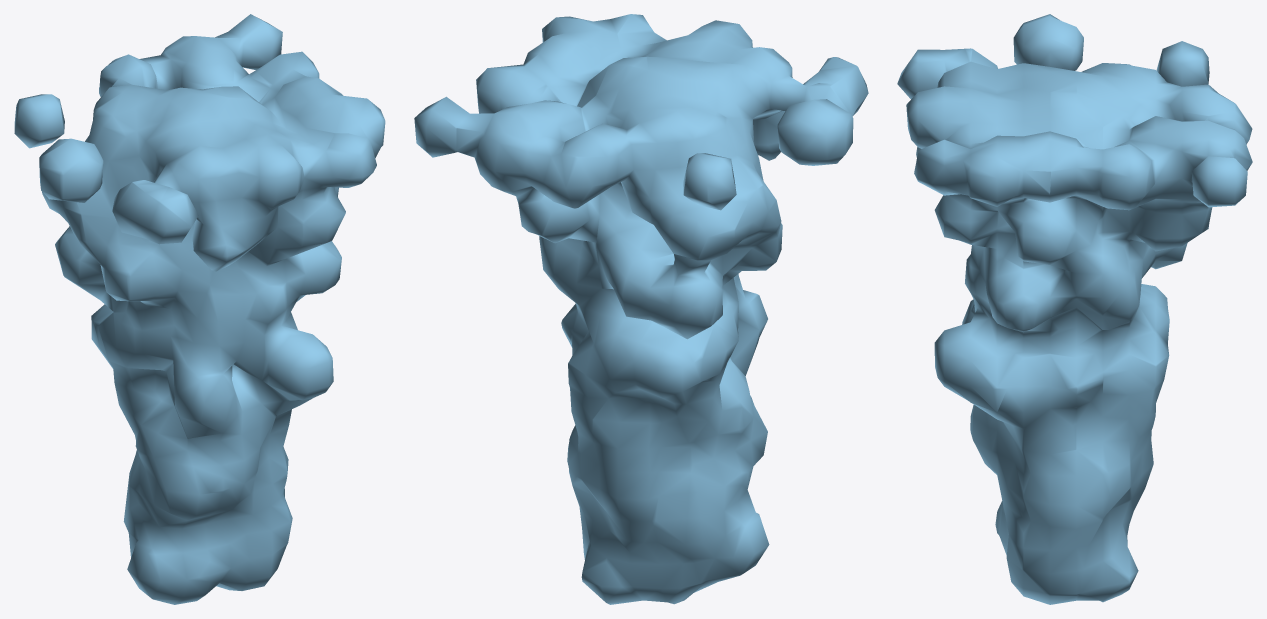
The model's file is TornadoPetAttack.fbx.
The picture shows the model from 3 angles, left to right: view 1: azimuth 30°, elevation 25°; view 2: azimuth 150°, elevation 25°; view 3: azimuth 270°, elevation 25°; orthographic projection. The views are drawn at different scales.
Visible parts, largest first — view 1: Mball.001; view 2: Mball.001; view 3: Mball.001.
Part boxes in pixels (x1=…): Mball.001: x1=14, y1=14, x2=385, y2=604; Mball.001: x1=414, y1=14, x2=868, y2=604; Mball.001: x1=897, y1=14, x2=1252, y2=604.
Bounding box in the file's own units: 570 × 845 × 538.
